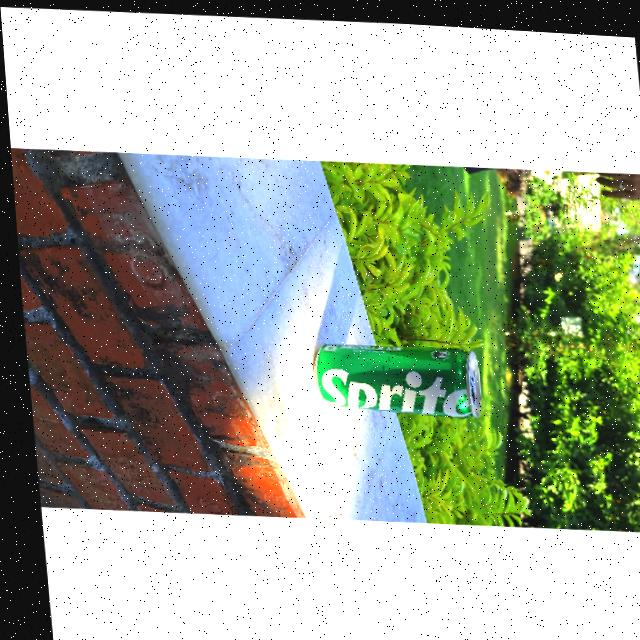Sprite: (311, 333, 476, 416)
